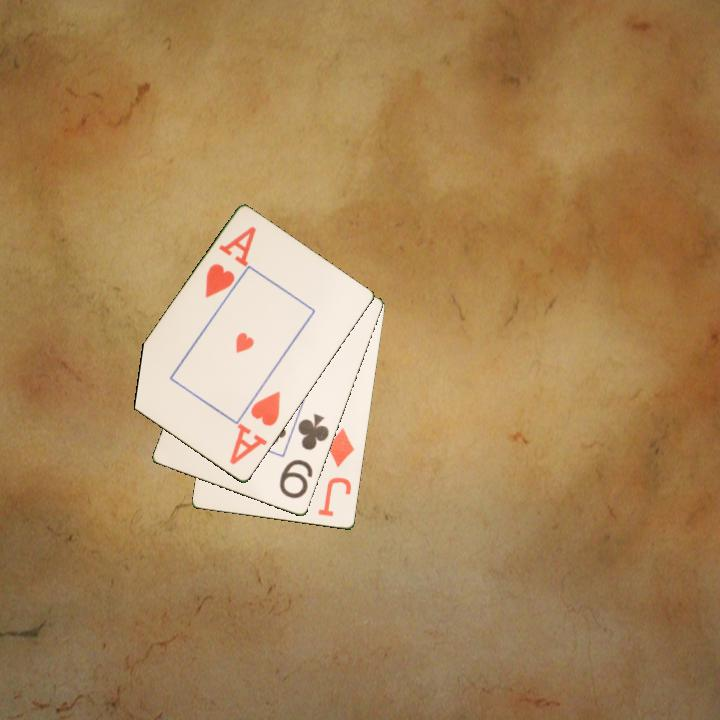9c: (276, 410, 332, 502)
Ah: (226, 388, 284, 468), (201, 223, 259, 301)
Jd: (314, 425, 357, 520)
